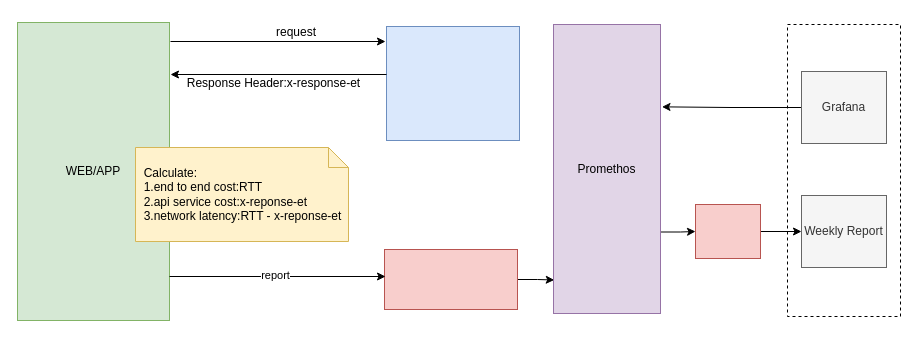
Some shapes in this 918 by 338 pixel diagram are drawn without their labels. The centre of each missing label's shape, as x and y in pixels:
"BE" belongs at point 453,83.
"BFF" belongs at point 451,279.
"devHelper" belongs at point 727,231.
